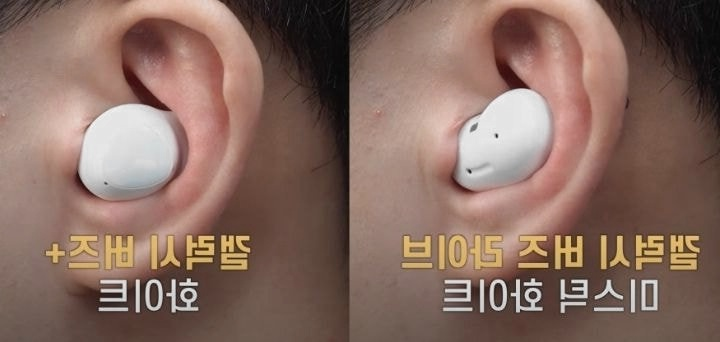earphone: (60, 1, 265, 295), (437, 1, 628, 290)
